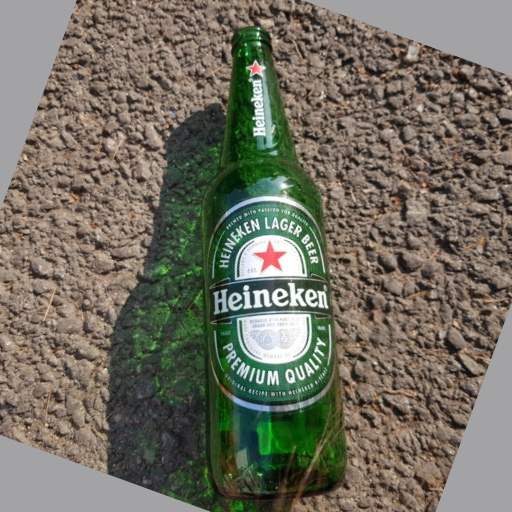Glass_1: (192, 24, 348, 498)
